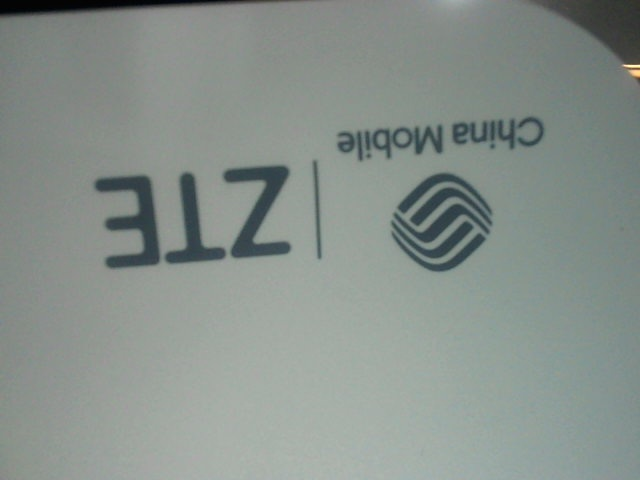AL_ZTEChinaMobile: (83, 110, 556, 276)
